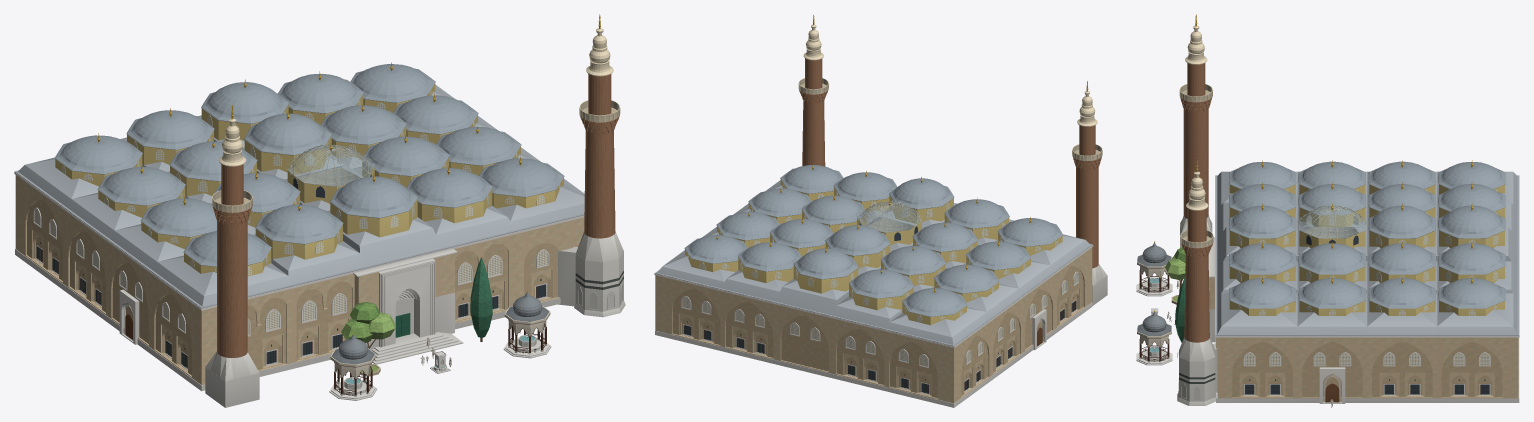
File: ulu-cami_v25.glb
3 renders of one model, left to right at view 1: azimuth 30°, elevation 25°; view 2: azimuth 150°, elevation 25°; view 3: azimuth 270°, elevation 25°, orthographic. The views are drawn at different scales.
Parts seen in each view (by area): view 1: Kubbeler_19, Cati, Cephe_Kuzey, Cephe_Dogu, Minare_1, Minare_2, Pencere_Girintileri, Tac_Kapi, Sadirvan_Kubbe, Giris_Cikintili_Blok, Kasnak_Pencereleri, Avlu_Sadirvan_Bati (+8 smaller); view 2: Kubbeler_19, Cephe_Guney, Cati, Cephe_Dogu, Pencere_Girintileri, Minare_2, Minare_1, Mermer_Bant, Sadirvan_Kubbe, Kasnak_Pencereleri, Silme_Ust, Sadirvan_Iskeleti (+1 smaller); view 3: Kubbeler_19, Cephe_Bati, Cati, Minare_1, Minare_2, Pencere_Girintileri, Sadirvan_Kubbe, Kasnak_Pencereleri, Mermer_Bant, Avlu_Sadirvan_Bati, Avlu_Sadirvan_Dogu, Kapi_Bati (+5 smaller).
Part boxes in pixels (x1,y1,x2,y2): Kubbeler_19: (54,64,564,276); Cati: (14,84,584,308); Cephe_Kuzey: (201,217,584,384); Cephe_Dogu: (16,175,200,384); Minare_1: (558,14,625,317); Minare_2: (205,104,259,407); Pencere_Girintileri: (31,229,553,372); Tac_Kapi: (371,258,463,364); Sadirvan_Kubbe: (287,145,374,203); Giris_Cikintili_Blok: (353,248,457,350); Kasnak_Pencereleri: (61,90,560,275); Avlu_Sadirvan_Bati: (503,290,551,358); Kubbeler_19: (684,165,1062,325); Cephe_Guney: (655,275,954,403); Cati: (654,180,1092,346); Cephe_Dogu: (954,248,1091,402); Pencere_Girintileri: (678,287,1080,396); Minare_2: (1072,81,1107,305); Minare_1: (798,14,828,166); Mermer_Bant: (655,302,1092,407); Sadirvan_Kubbe: (857,202,922,245); Kasnak_Pencereleri: (687,184,1058,322); Silme_Ust: (654,245,1093,347); Sadirvan_Iskeleti: (857,201,922,231); Kubbeler_19: (1229,161,1505,315); Cephe_Bati: (1217,337,1517,401); Cati: (1215,171,1519,335); Minare_1: (1177,160,1217,405); Minare_2: (1179,14,1212,247); Pencere_Girintileri: (1239,372,1494,396); Sadirvan_Kubbe: (1299,206,1365,248); Kasnak_Pencereleri: (1236,184,1498,315); Mermer_Bant: (1215,338,1519,402); Avlu_Sadirvan_Bati: (1136,310,1172,365); Avlu_Sadirvan_Dogu: (1136,241,1172,296); Kapi_Bati: (1319,367,1345,403).
Bounding box in the file's own units: 72.07 × 48.1 × 70.23.
42 materials, 10 textured.
